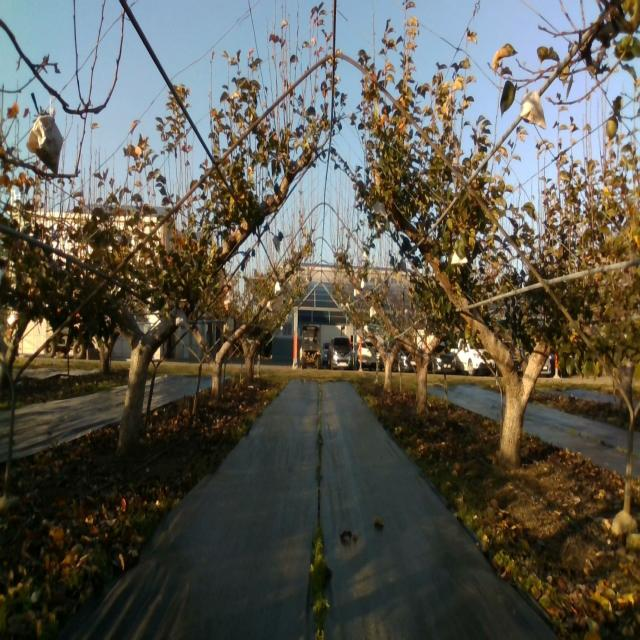pearbags: (26, 108, 63, 176), (520, 88, 547, 130), (372, 201, 388, 219), (175, 310, 188, 329)
